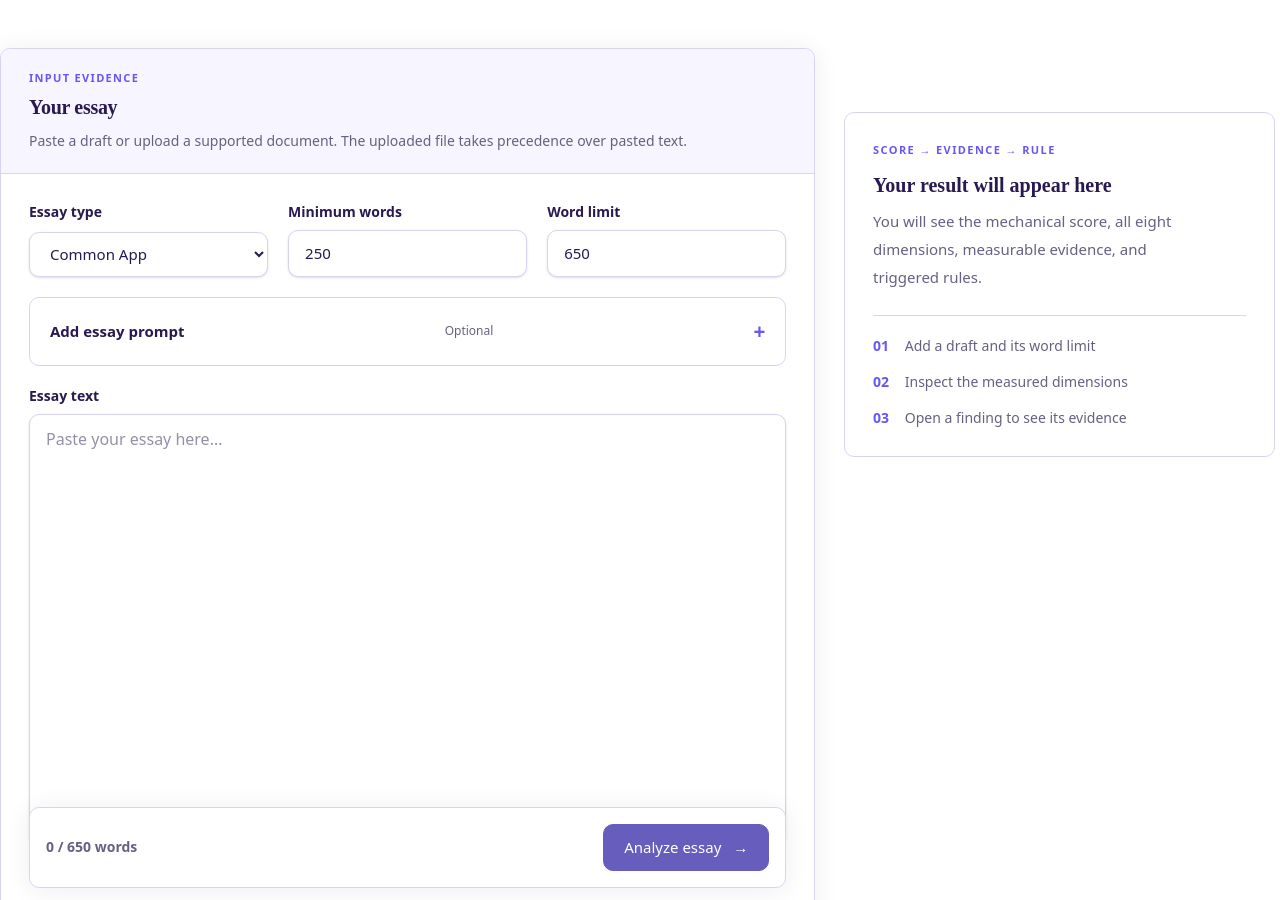
Scenario: Essay Evaluator T1 › shows a live word count and sends prompt with privacy-safe defaults
The width and height of the screenshot is (1280, 900).
Type "I built twelve prototypes and documented every measured test." into the text box labelled "Essay text" at coordinates (408, 630), box [29,414,786,846]
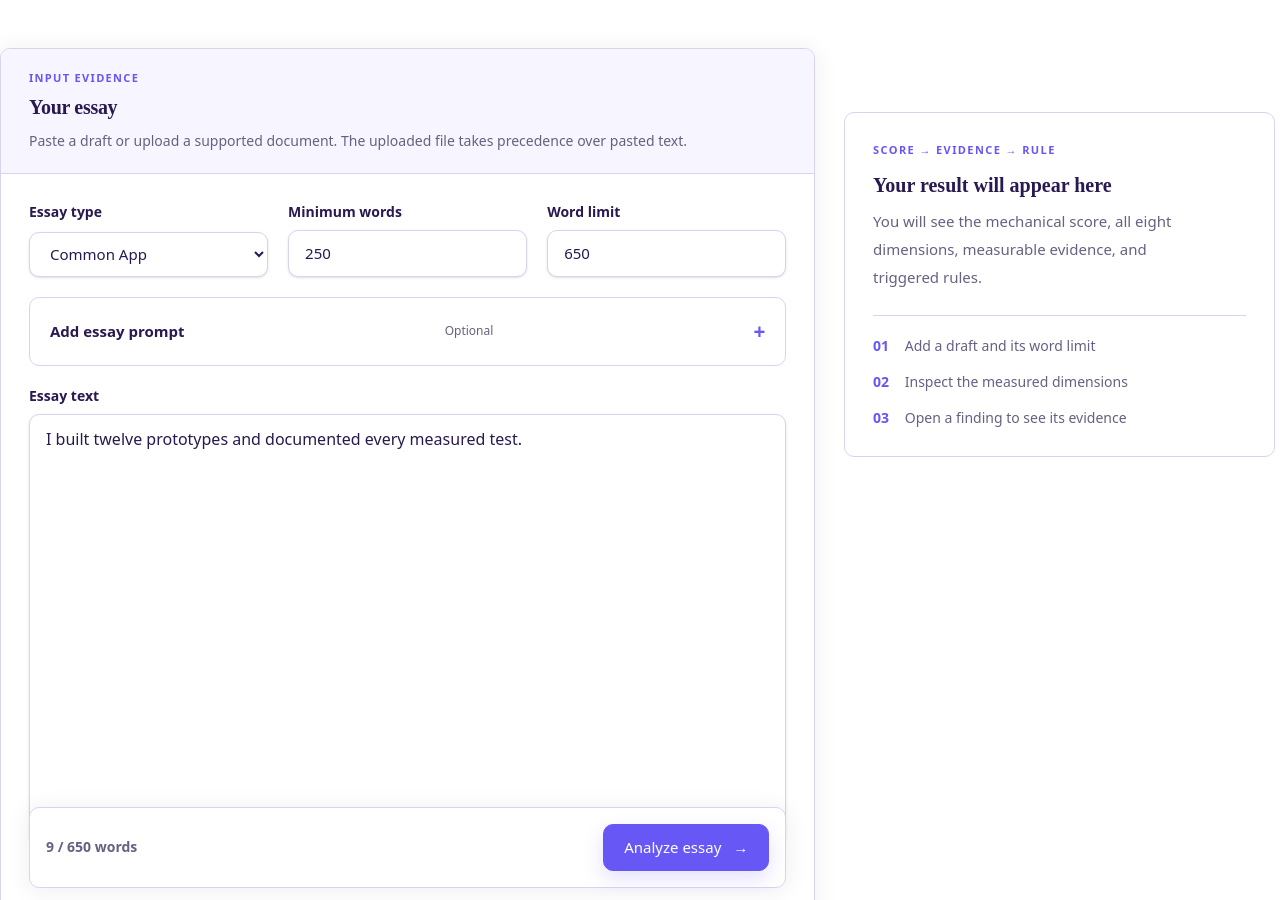
Result: the text "9 / 650 words" is shown at [46,838,137,858]
Click the heading "Add essay prompt Optional" at coordinates (117, 331), box [50,321,493,341]
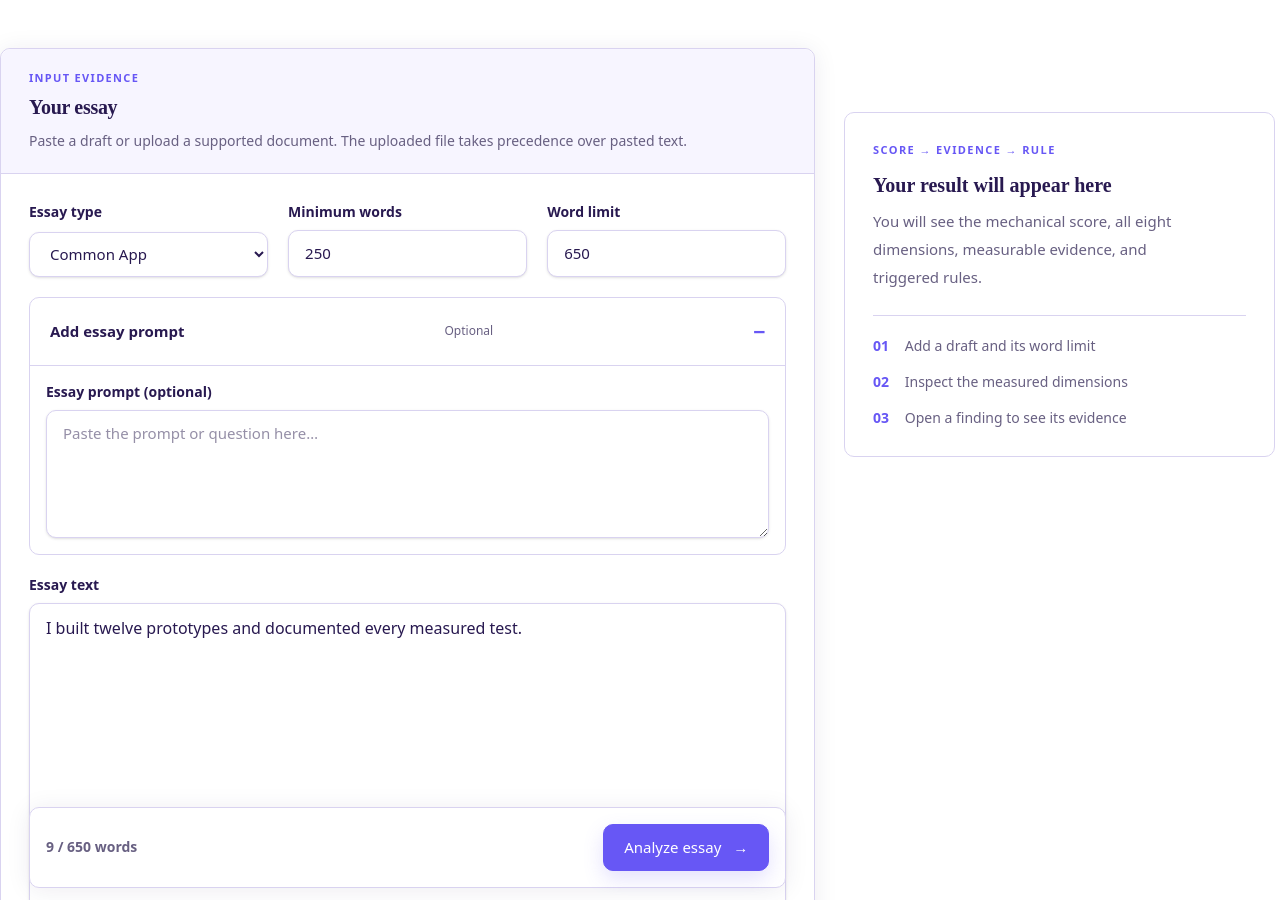
Type "Describe a project." into the text box labelled "Essay prompt (optional)" at coordinates (408, 474), box [46,410,769,538]
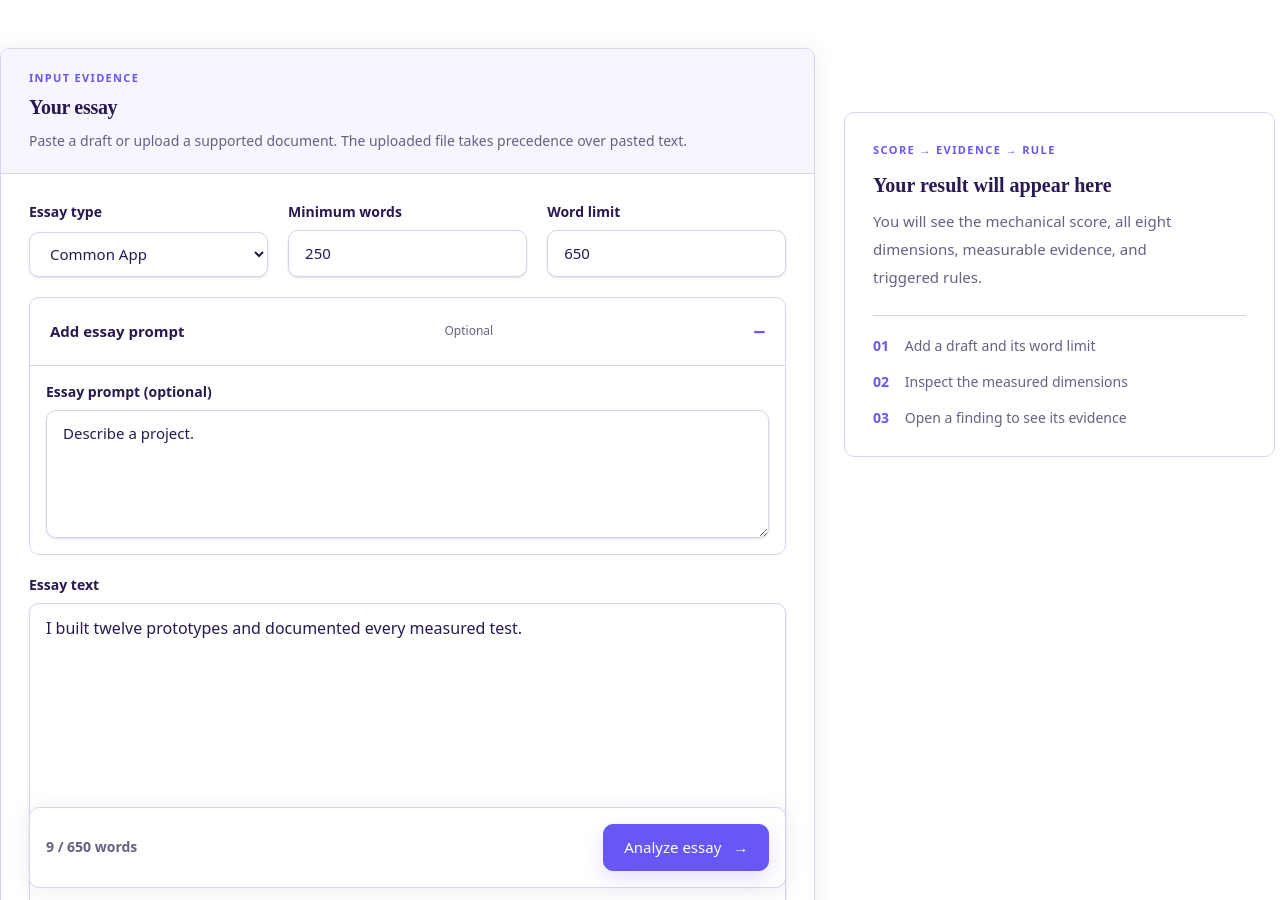
Click the button "Analyze essay →" at coordinates (686, 848), box [603,824,769,871]
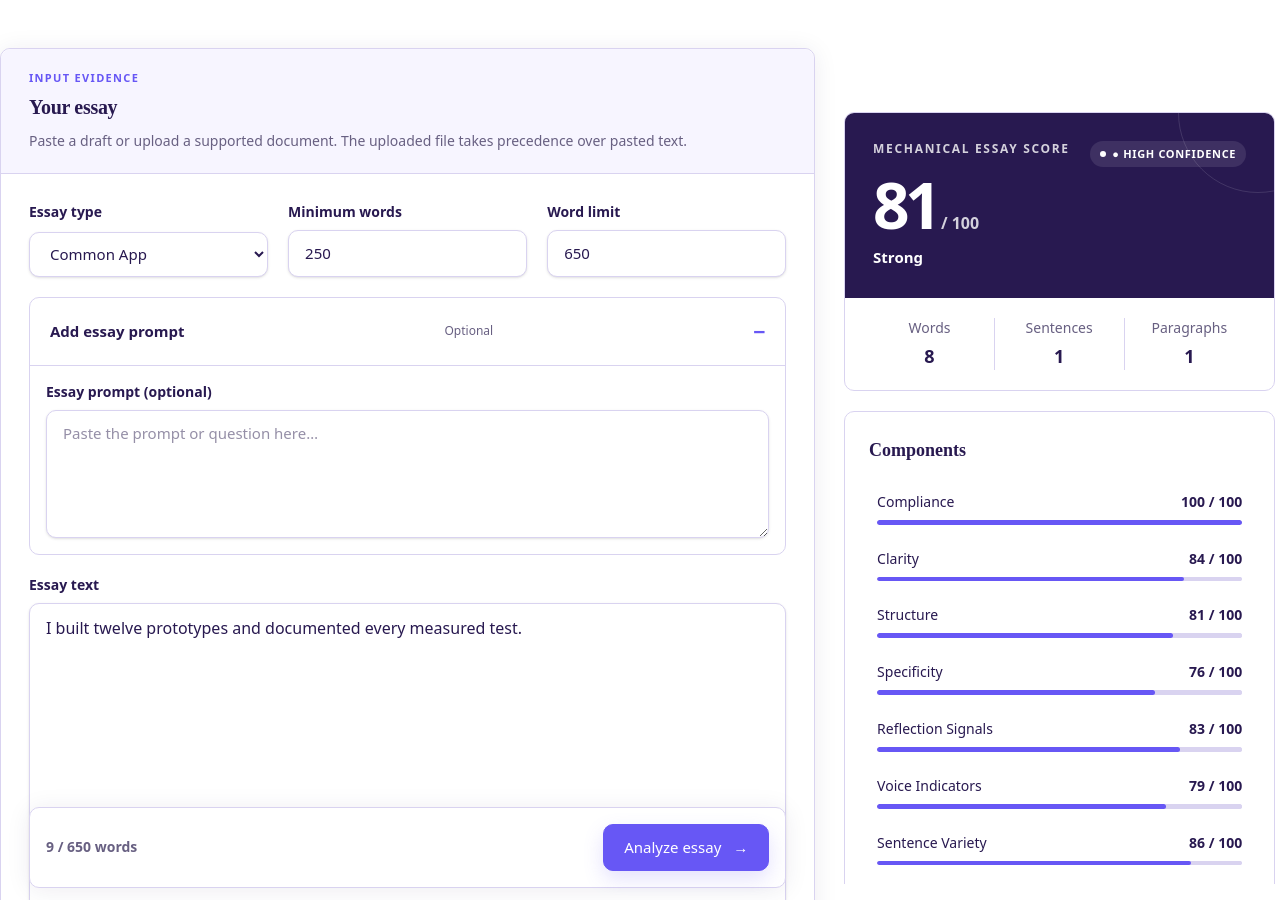
Result: the text "Mechanical Essay Score" is shown at [873,141,1070,157]
